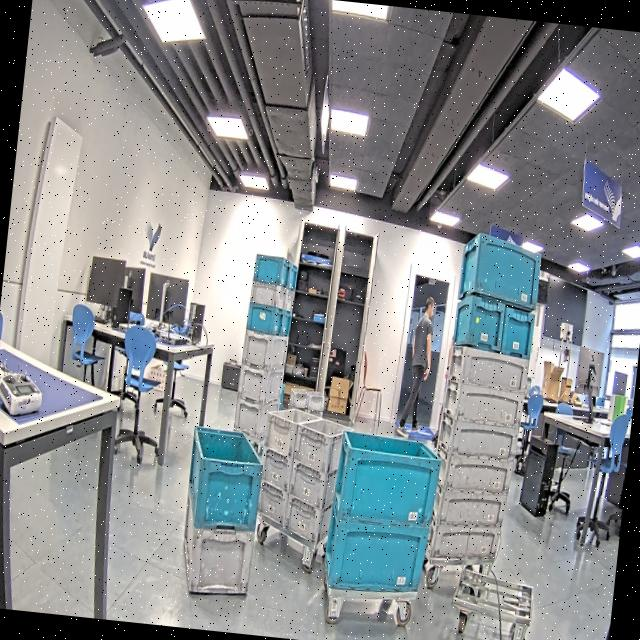Box3G: (445, 343, 530, 398), (431, 446, 512, 494), (437, 413, 521, 458), (440, 382, 524, 426), (424, 517, 499, 566), (432, 488, 508, 532)
Box4G: (175, 492, 258, 598), (237, 357, 287, 404), (231, 395, 279, 439), (240, 330, 288, 370)
Box8G: (293, 412, 350, 474), (261, 402, 311, 458), (283, 493, 334, 546), (286, 463, 338, 513), (256, 444, 294, 494), (253, 479, 290, 526), (249, 280, 286, 308), (288, 384, 309, 408), (306, 388, 324, 412), (282, 286, 295, 311)
BoxB4: (329, 424, 449, 532), (314, 508, 432, 598), (180, 425, 268, 536), (454, 230, 546, 308)
BoxB8: (452, 290, 504, 348), (498, 305, 538, 358), (246, 300, 285, 334), (252, 252, 290, 286), (285, 262, 299, 290)
